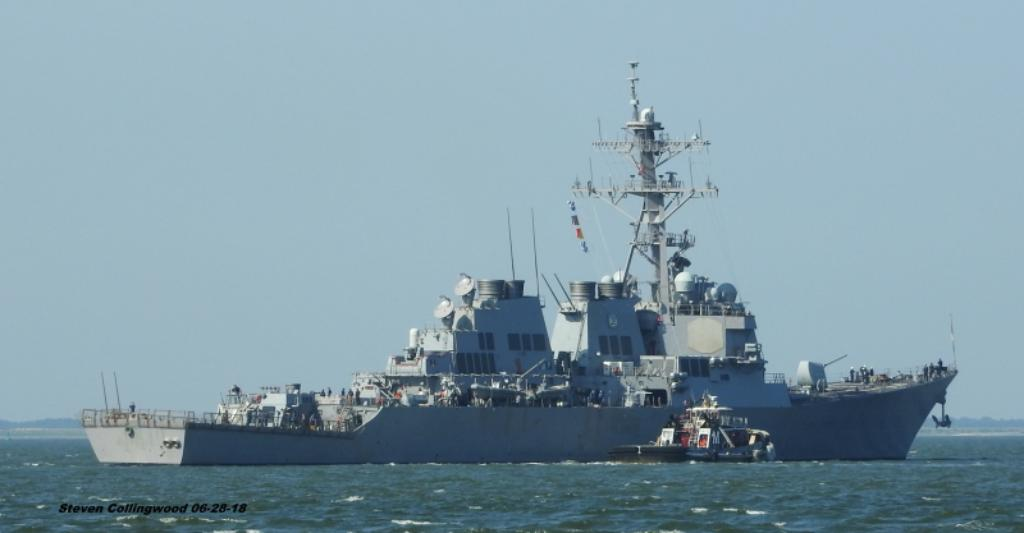Warship: (80, 54, 960, 468)
